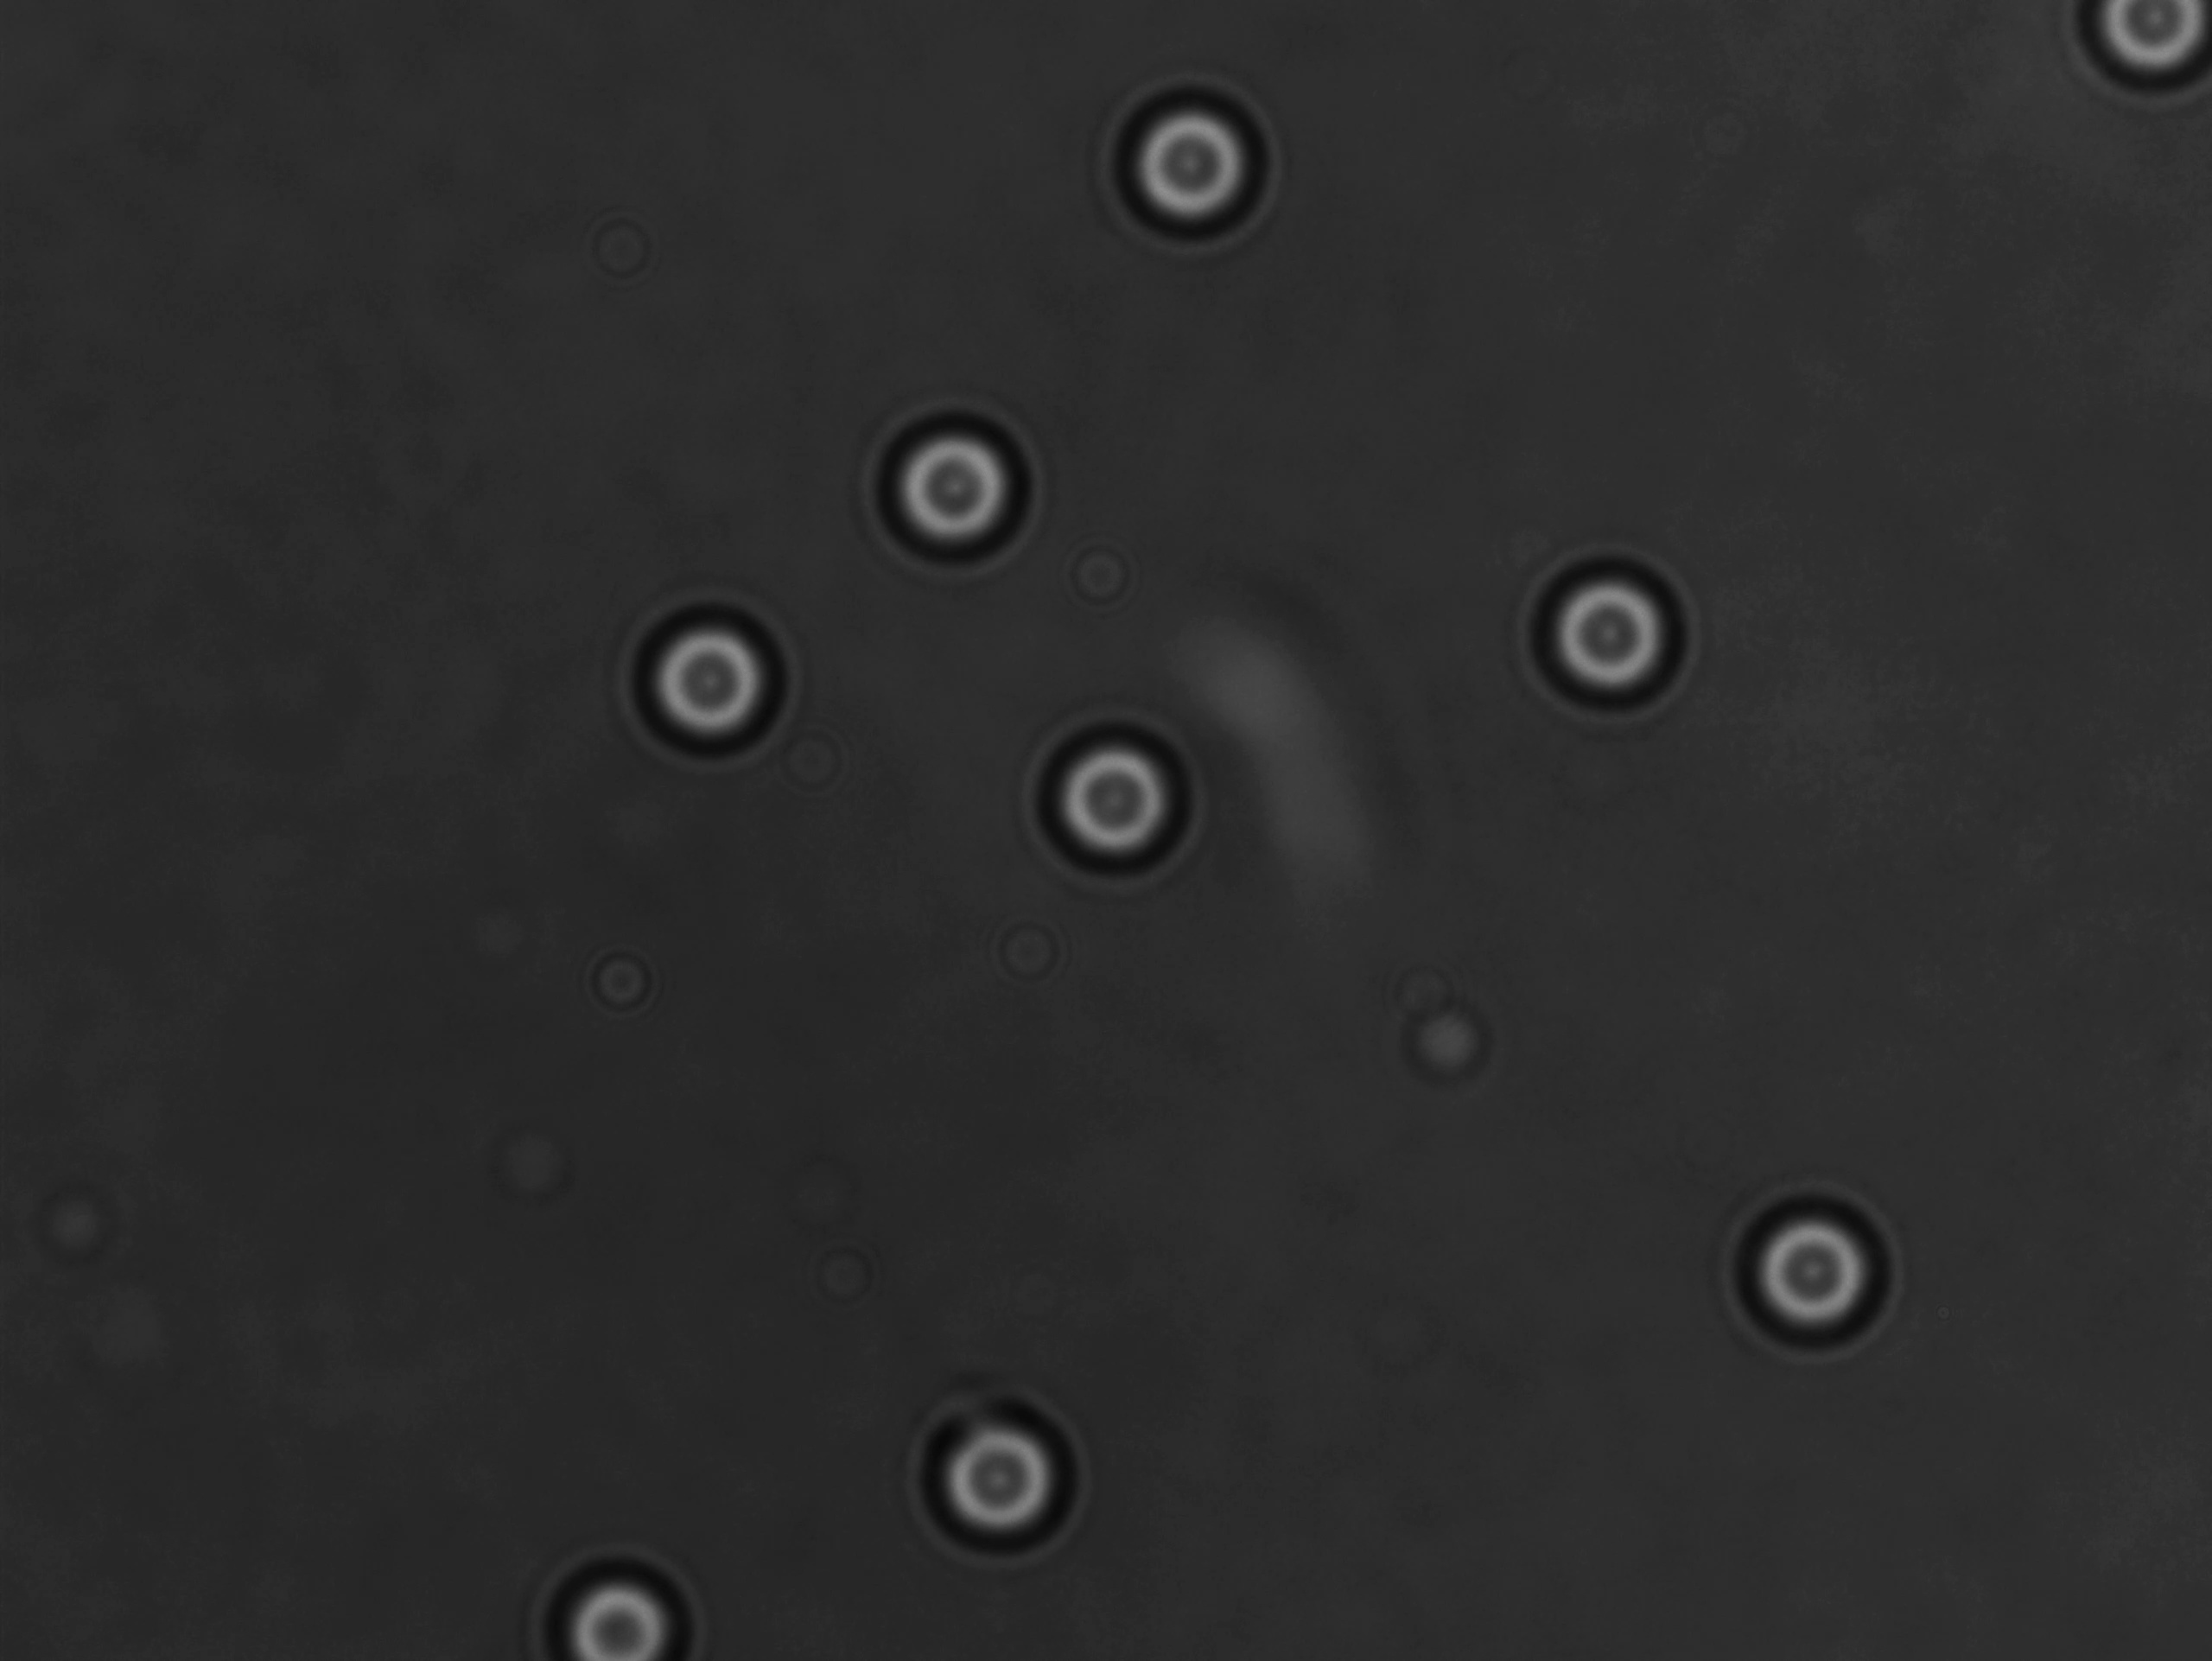depth:40: (1519, 534, 1704, 735), (1094, 73, 1287, 263), (619, 579, 801, 780), (865, 400, 1057, 588), (1021, 712, 1218, 893), (904, 1382, 1089, 1556), (1718, 1181, 1895, 1361), (541, 1530, 715, 1661)
